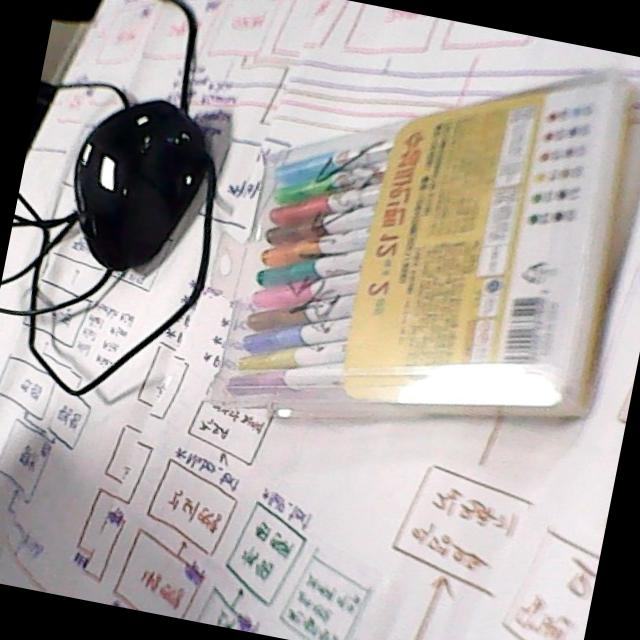mouse: (70, 92, 211, 282)
signpen: (204, 62, 640, 427)
